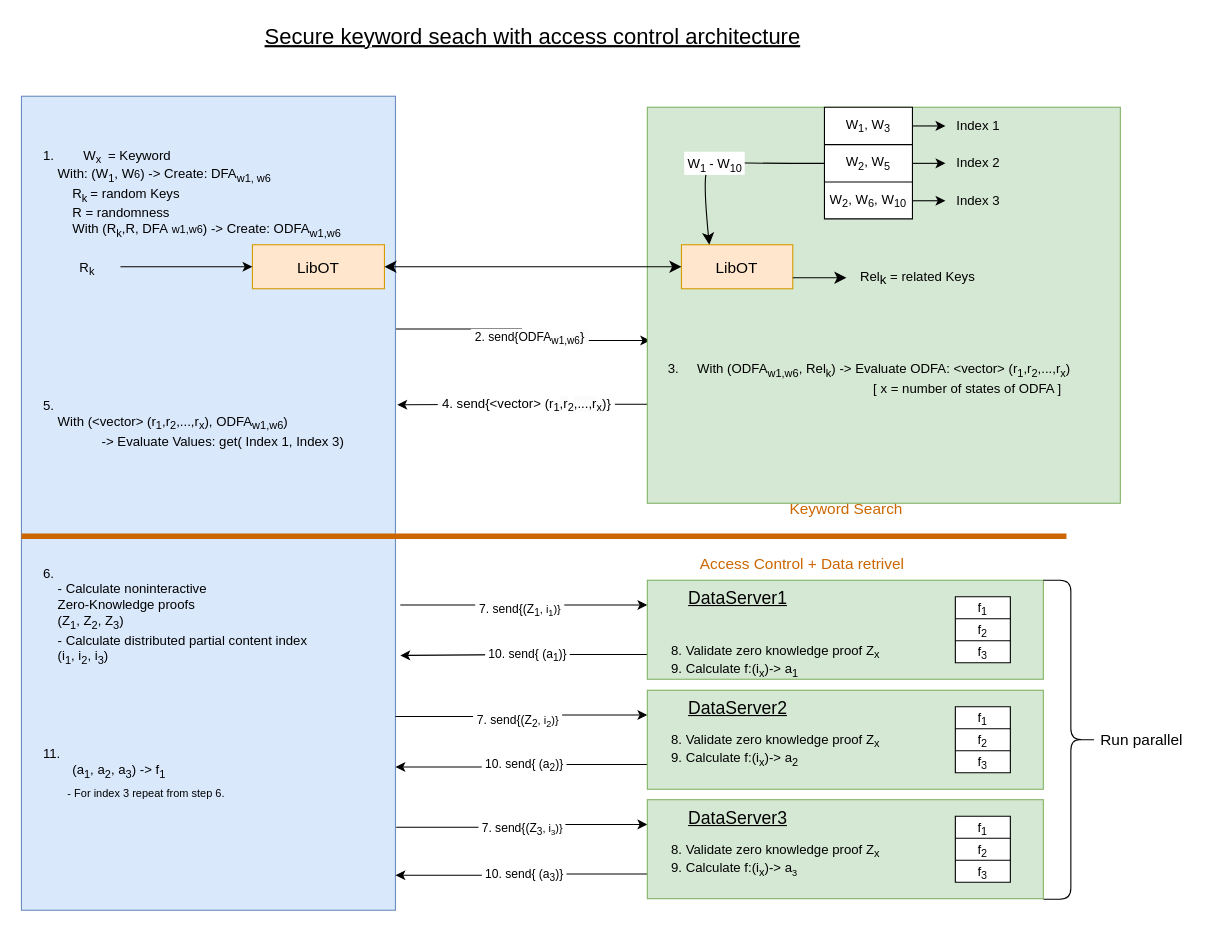
Some shapes in this 1218 by 938 pixel diagram are drawn without their labels. Here are the shapes that lost their labels. From the top down, the box of each, then its label:
(646, 106, 1120, 503): KeywordServer
(20, 95, 395, 910): Client
